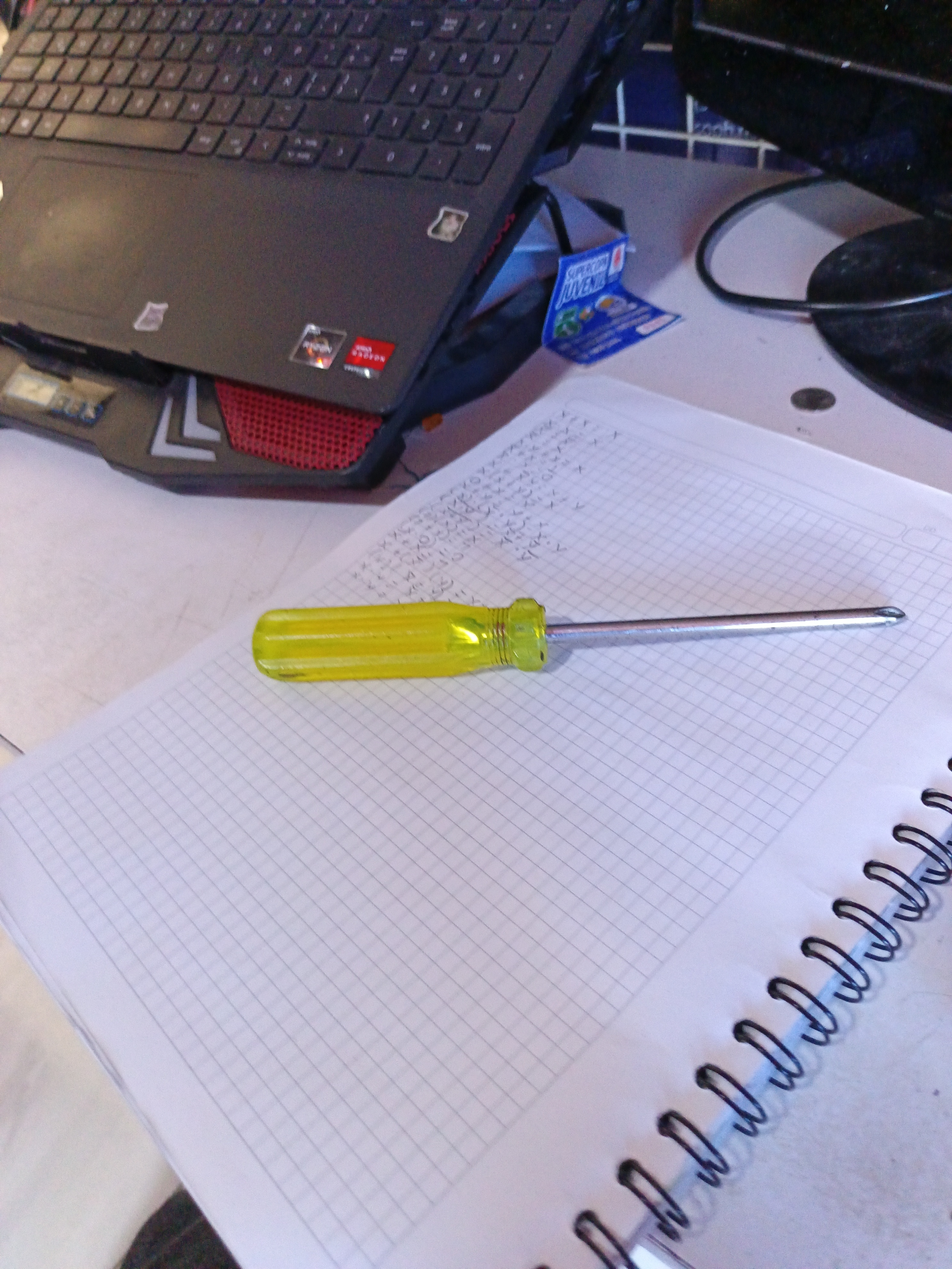Destornillador: (252, 598, 904, 681)
